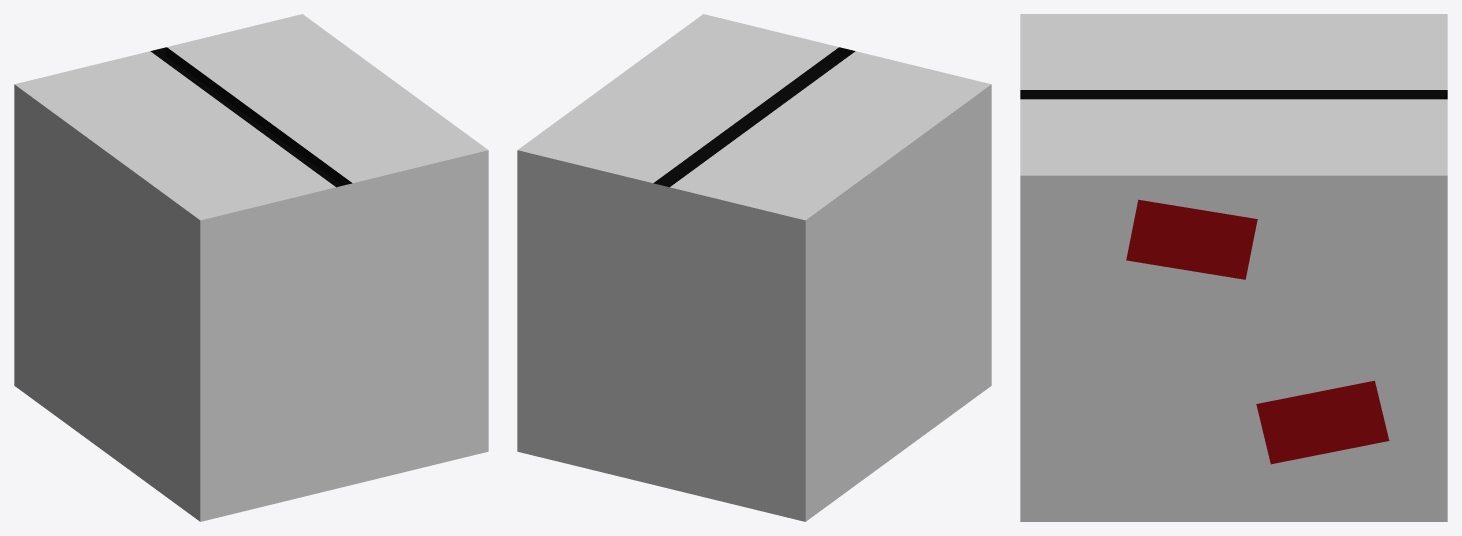
Rendered from BigCardboardBox.glb.
3 renders of one model, left to right at view 1: azimuth 30°, elevation 25°; view 2: azimuth 150°, elevation 25°; view 3: azimuth 270°, elevation 25°, orthographic. The views are drawn at different scales.
Parts seen in each view (by area): view 1: BigCardboardBox; view 2: BigCardboardBox; view 3: BigCardboardBox.
Boxes of the visible parts, <box> form: BigCardboardBox: <box>14,14,488,521</box>; BigCardboardBox: <box>517,14,991,521</box>; BigCardboardBox: <box>1020,14,1447,521</box>.
Bounding box in the file's own units: 0.7974 × 0.7966 × 0.8907.
